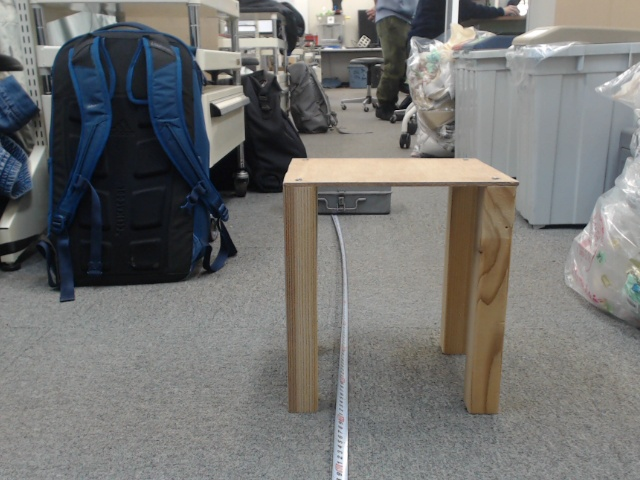desk: (296, 123, 529, 397)
